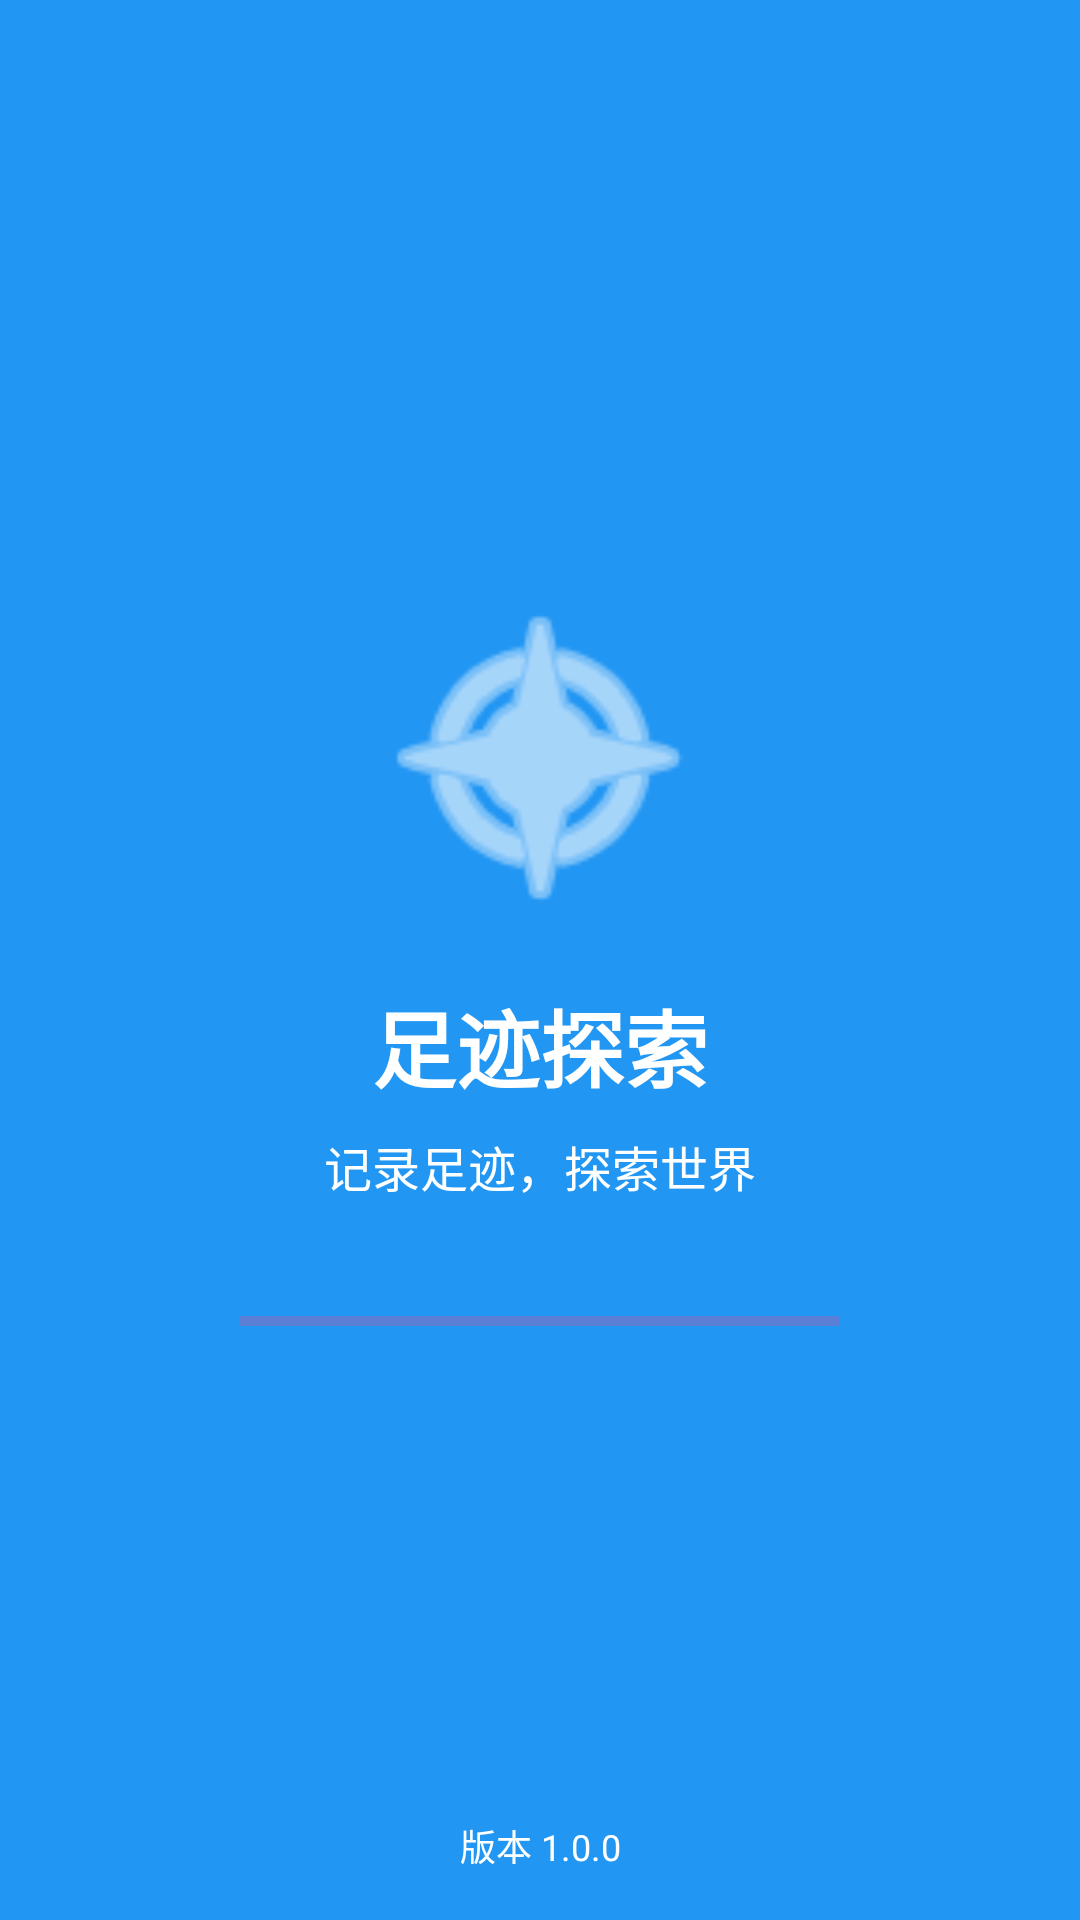

Where icons sit on this 1080x1920 app screen, as [x1,y1,x2,y2]:
compass: [396,616,681,900]
